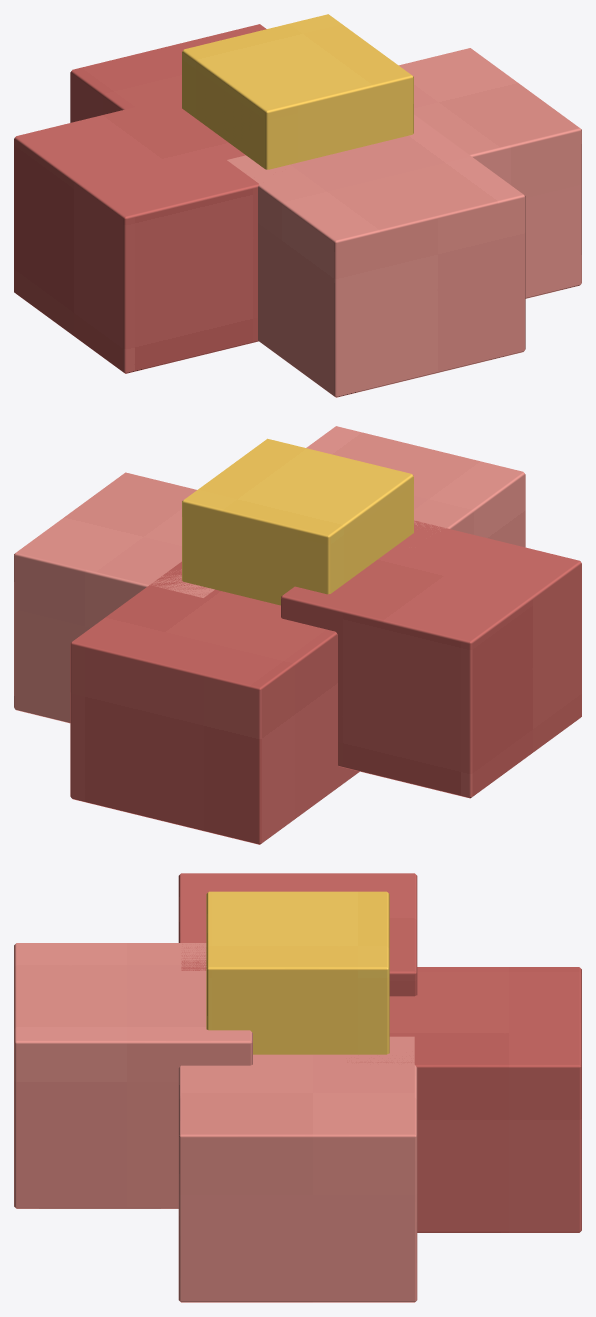
File: Rose-blossom.glb
The picture shows the model from 3 angles, top to bottom: view 1: azimuth 30°, elevation 25°; view 2: azimuth 150°, elevation 25°; view 3: azimuth 270°, elevation 25°; orthographic projection. The views are drawn at different scales.
Visible parts, largest first — view 1: Rose-blossom; view 2: Rose-blossom; view 3: Rose-blossom.
Part boxes in pixels (x1,y1,x2,y2): Rose-blossom: (14, 14, 581, 397); Rose-blossom: (14, 426, 581, 844); Rose-blossom: (14, 873, 581, 1302).
Bounding box in the file's own units: 0.1512 × 0.0753 × 0.1519.
Materials: 3 (3 with a texture image).
